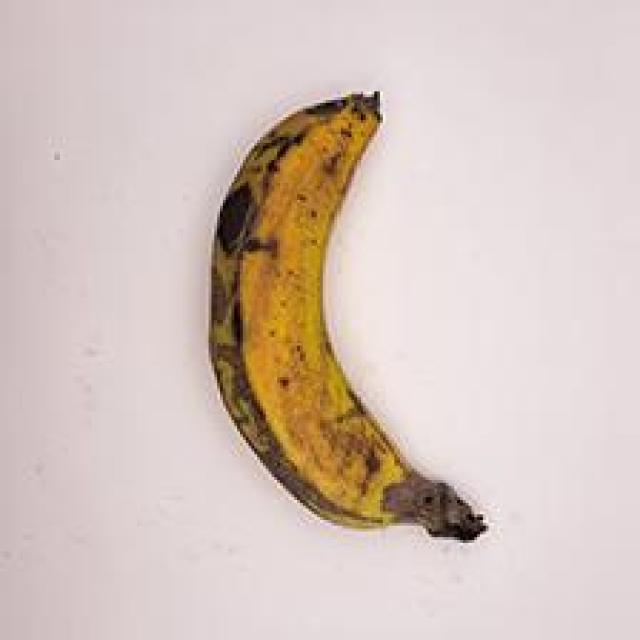Overripe: (154, 73, 530, 564)
